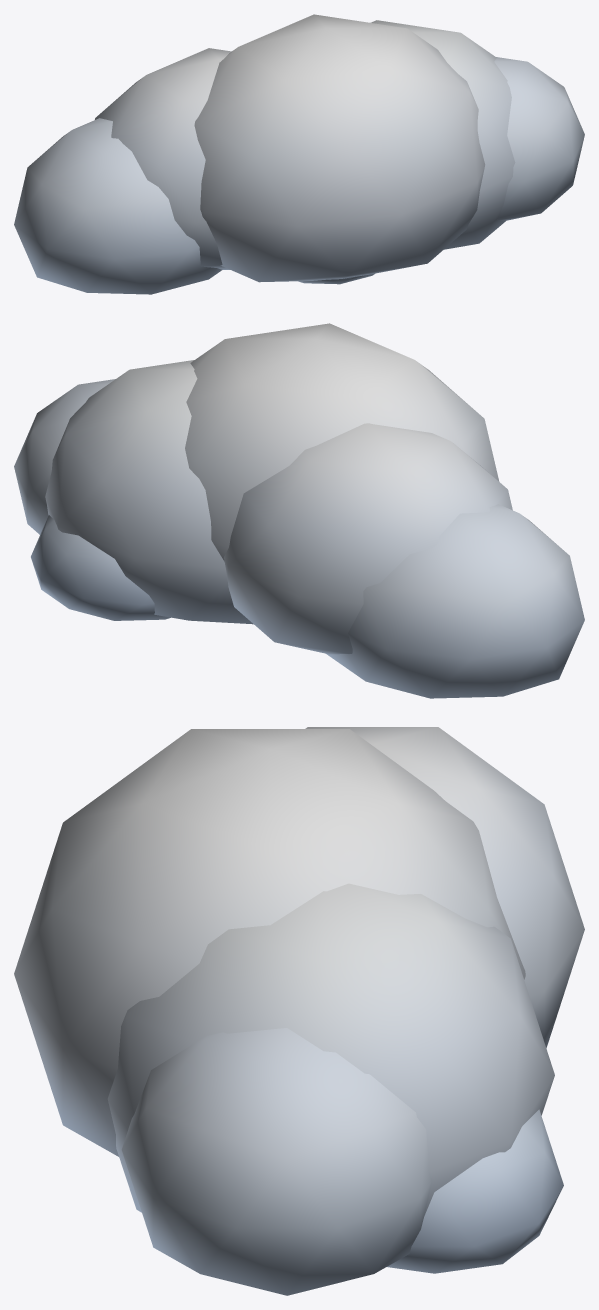
The model's file is cloud_2.glb.
The picture shows the model from 3 angles, top to bottom: view 1: azimuth 30°, elevation 25°; view 2: azimuth 150°, elevation 25°; view 3: azimuth 270°, elevation 25°; orthographic projection. The views are drawn at different scales.
Visible parts, largest first — view 1: Cloud; view 2: Cloud; view 3: Cloud.
Boxes of the visible parts, box(x1,y1,x2,y2) form: Cloud: box(14, 14, 584, 294); Cloud: box(14, 323, 584, 698); Cloud: box(14, 727, 584, 1295).
Bounding box in the file's own units: 9.24 × 3.87 × 5.28.
